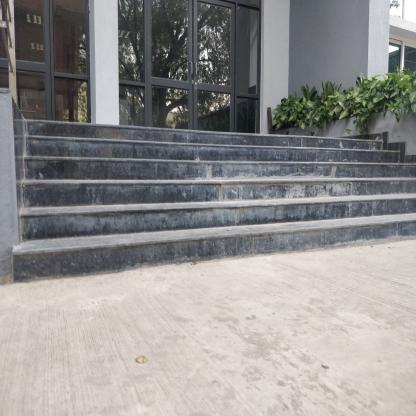stairs: (37, 133, 387, 256)
